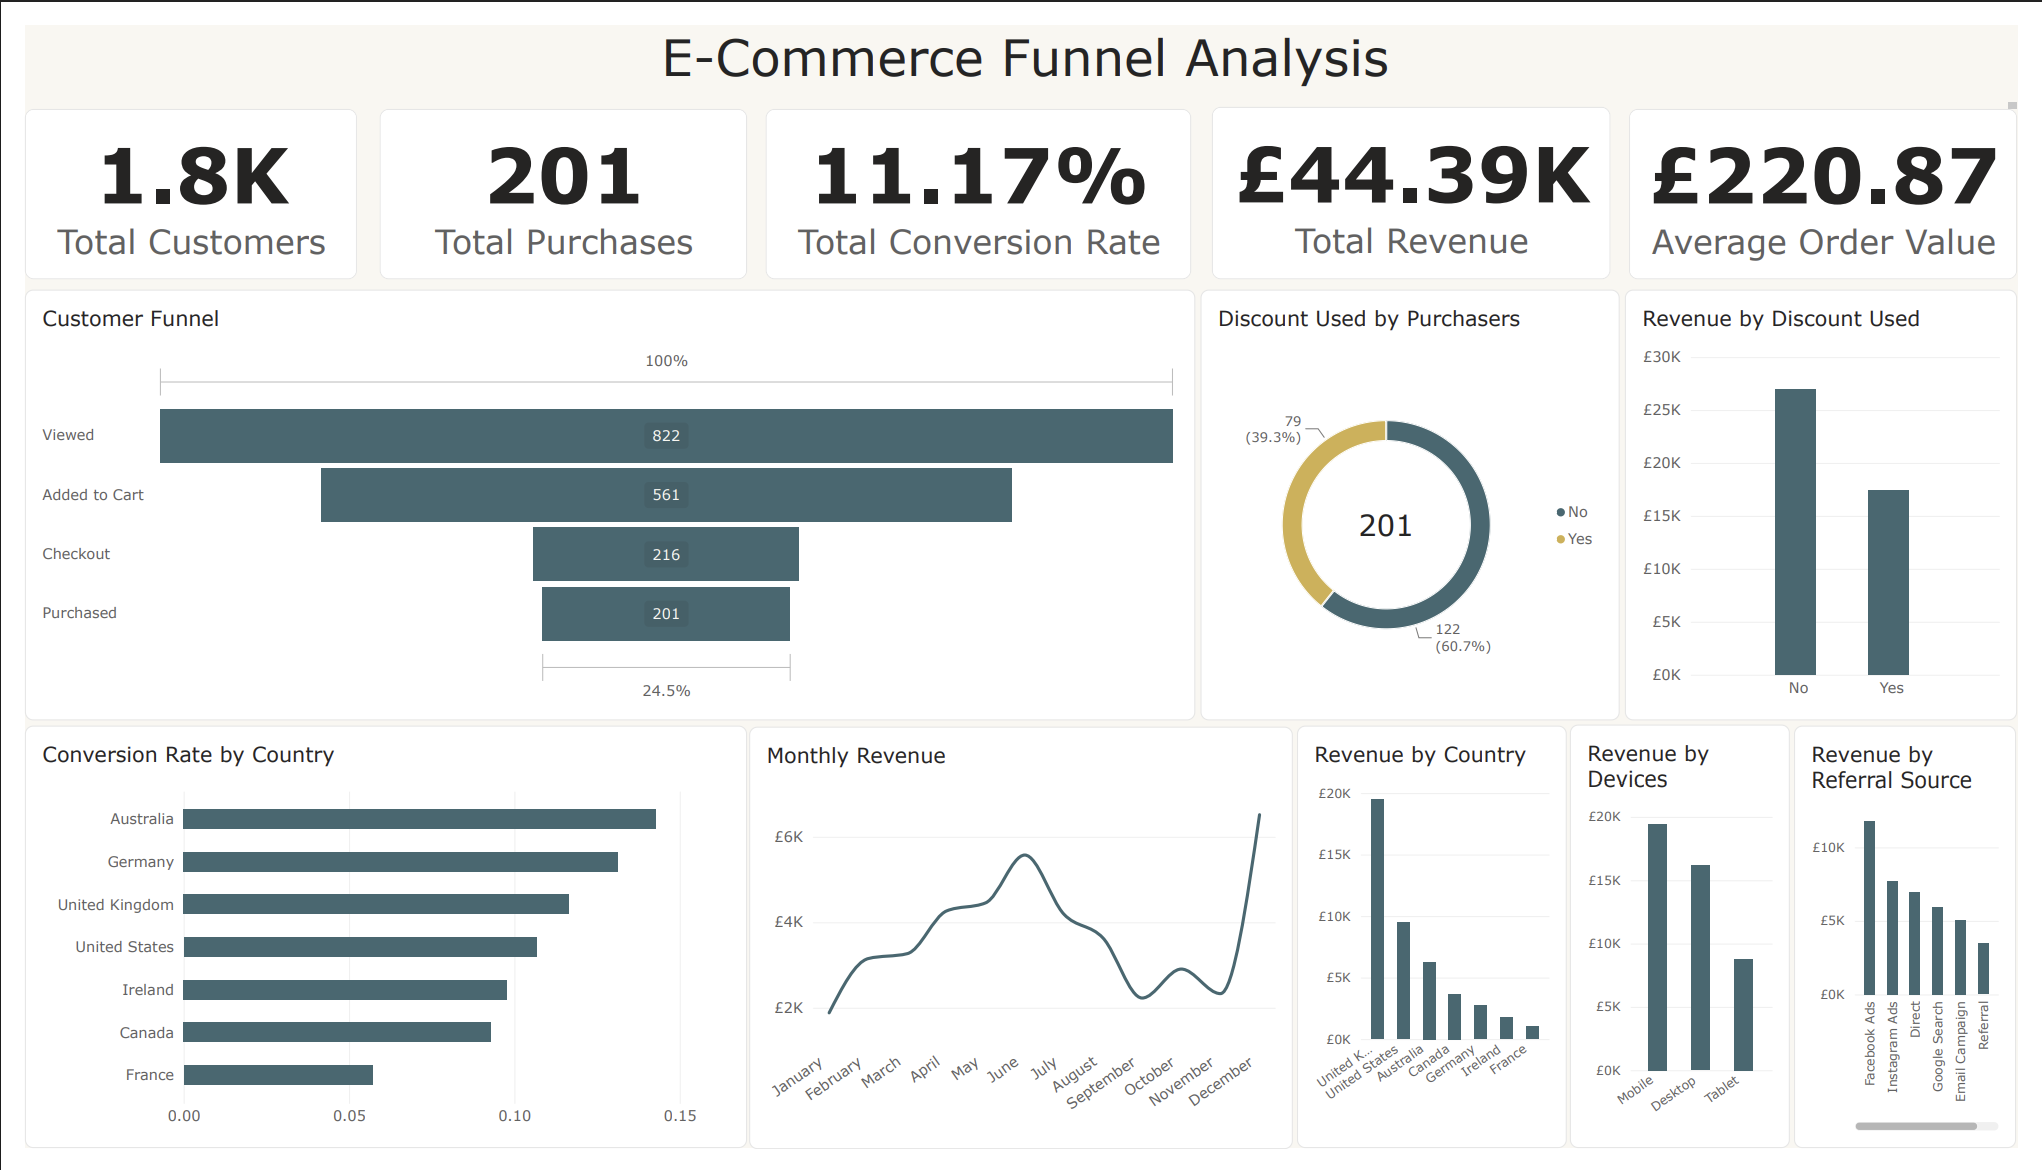

The page's visual inventory and layout, read from the dashboard file:
{"tool":"powerbi","page":{"name":"Page 1","canvas":[1920,1080],"ordinal":0},"visuals":[{"type":"textbox","title":"E-Commerce Funnel Analysis","box":[8.9,0,1910.8,80.3],"z":0},{"type":"cardVisual","fields":{"Data":["CountNonNull(ecommerce_funnel_raw.customer_id)"]},"box":[0,80,320,164],"z":1000},{"type":"cardVisual","fields":{"Data":["CountNonNull(ecommerce_funnel_raw.order_value)"]},"box":[342,80,354,164],"z":2000},{"type":"cardVisual","fields":{"Data":["ecommerce_funnel_raw.Total Conversion Rate"]},"box":[714,80,410,164],"z":3000},{"type":"cardVisual","fields":{"Data":["Sum(ecommerce_funnel_raw.order_value)"]},"box":[1144,78,384,166],"z":4000},{"type":"cardVisual","fields":{"Data":["Avg(ecommerce_funnel_raw.order_value)"]},"box":[1546,80,374,164],"z":5000},{"type":"funnel","title":"Customer Funnel","fields":{"Category":["ecommerce_funnel_raw.funnel_stage_reached"],"Y":["CountNonNull(ecommerce_funnel_raw.customer_id)"]},"box":[0,254.1,1128.2,414.7],"z":6000},{"type":"clusteredBarChart","title":"Conversion Rate by Country","fields":{"Category":["ecommerce_funnel_raw.country"],"Y":["ecommerce_funnel_raw.Total Conversion Rate"]},"box":[0,674,696,406],"z":7000},{"type":"donutChart","title":"Discount Used by Purchasers","fields":{"Category":["ecommerce_funnel_raw.discount_used"],"Y":["CountNonNull(ecommerce_funnel_raw.order_value)"]},"box":[1132.7,254,404.7,414.7],"z":8000},{"type":"clusteredColumnChart","title":"Revenue by Discount Used","fields":{"Category":["ecommerce_funnel_raw.discount_used"],"Y":["Sum(ecommerce_funnel_raw.order_value)"]},"box":[1541.8,254.1,378.2,414.7],"z":9000},{"type":"lineChart","title":"Monthly Revenue","fields":{"Category":["ecommerce_funnel_raw.signup_date.Variation.Date Hierarchy.Month"],"Y":["Sum(ecommerce_funnel_raw.order_value)"]},"box":[697.5,675,524,406],"z":10000},{"type":"columnChart","title":"Revenue by Country","fields":{"Category":["country_revenue_pivot.Country"],"Y":["Sum(country_revenue_pivot.Total Revenue)"]},"box":[1226,674,260,405.6],"z":11000},{"type":"columnChart","title":"Revenue by Devices","fields":{"Category":["device_type_revenue_pivot.Devices"],"Y":["Sum(device_type_revenue_pivot.Total Revenue)"]},"box":[1489.5,673.2,211.7,406.7],"z":12000},{"type":"columnChart","title":"Revenue by Referral Source","fields":{"Category":["referral_source_revenue_pivot.Referral Source"],"Y":["Sum(referral_source_revenue_pivot.Total Revenue)"]},"box":[1705.3,674.2,214.2,405.8],"z":13000}]}

Visuals, with their boxes in screenshot pixels (x1, y1, x2, y2), scaled from the page's 1920x1080 canvas onto the 2042x1170 screenshot:
"E-Commerce Funnel Analysis" textbox: <region>9, 0, 2041, 87</region>
cardVisual - CountNonNull(ecommerce_funnel_raw.customer_id): <region>0, 87, 340, 264</region>
cardVisual - CountNonNull(ecommerce_funnel_raw.order_value): <region>364, 87, 740, 264</region>
cardVisual - ecommerce_funnel_raw.Total Conversion Rate: <region>759, 87, 1195, 264</region>
cardVisual - Sum(ecommerce_funnel_raw.order_value): <region>1217, 84, 1625, 264</region>
cardVisual - Avg(ecommerce_funnel_raw.order_value): <region>1644, 87, 2041, 264</region>
"Customer Funnel" funnel: <region>0, 275, 1200, 725</region>
"Conversion Rate by Country" clusteredBarChart: <region>0, 730, 740, 1169</region>
"Discount Used by Purchasers" donutChart: <region>1205, 275, 1635, 724</region>
"Revenue by Discount Used" clusteredColumnChart: <region>1640, 275, 2041, 725</region>
"Monthly Revenue" lineChart: <region>742, 731, 1299, 1169</region>
"Revenue by Country" columnChart: <region>1304, 730, 1580, 1169</region>
"Revenue by Devices" columnChart: <region>1584, 729, 1809, 1169</region>
"Revenue by Referral Source" columnChart: <region>1814, 730, 2041, 1169</region>
